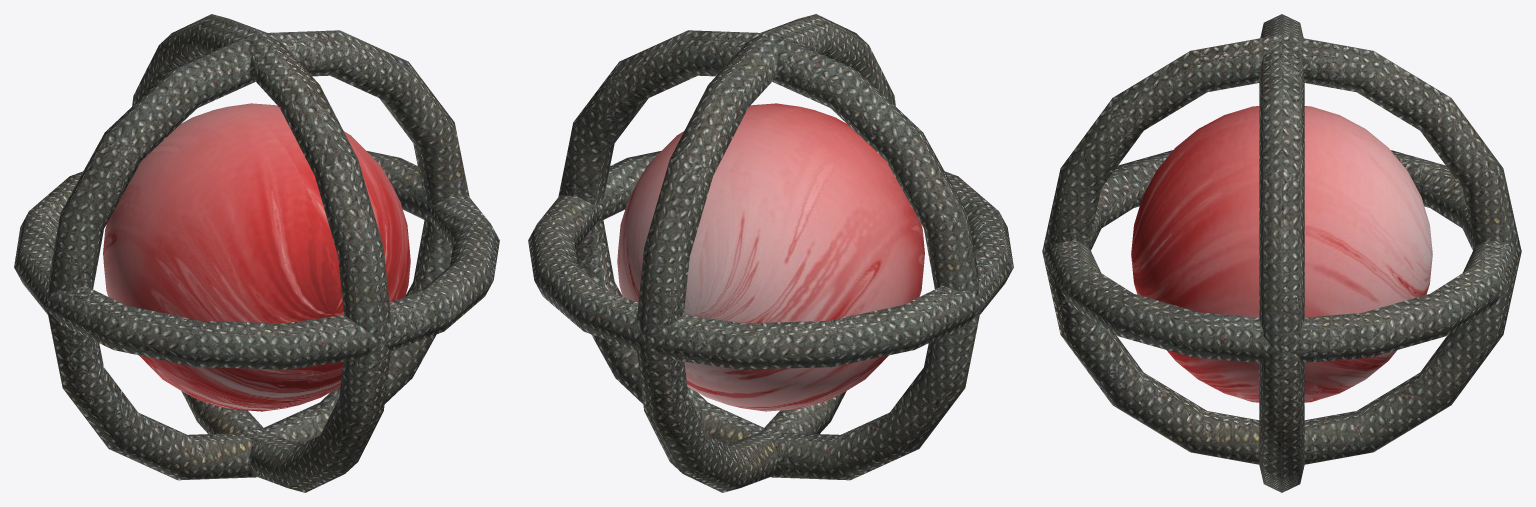
The model's file is bonus.FBX.
3 views of the same model, side by side, from view 1: azimuth 30°, elevation 25°; view 2: azimuth 150°, elevation 25°; view 3: azimuth 270°, elevation 25° (orthographic). The views are drawn at different scales.
Parts seen in each view (by area): view 1: Sphère01, Tore02, Tore03, Tore01; view 2: Sphère01, Tore02, Tore03, Tore01; view 3: Tore01, Sphère01, Tore03, Tore02.
Boxes of the visible parts, <box> form: Sphère01: <box>103,103,410,411</box>; Tore02: <box>47,30,469,480</box>; Tore03: <box>14,151,499,369</box>; Tore01: <box>132,14,390,492</box>; Sphère01: <box>617,103,924,411</box>; Tore02: <box>558,30,980,480</box>; Tore03: <box>528,151,1013,369</box>; Tore01: <box>637,14,895,492</box>; Tore01: <box>1042,34,1521,464</box>; Sphère01: <box>1131,106,1432,402</box>; Tore03: <box>1043,150,1520,363</box>; Tore02: <box>1259,14,1304,492</box>.
Bounding box in the file's own units: 0.1458 × 0.1458 × 0.1452.
2 materials, 2 textured.
